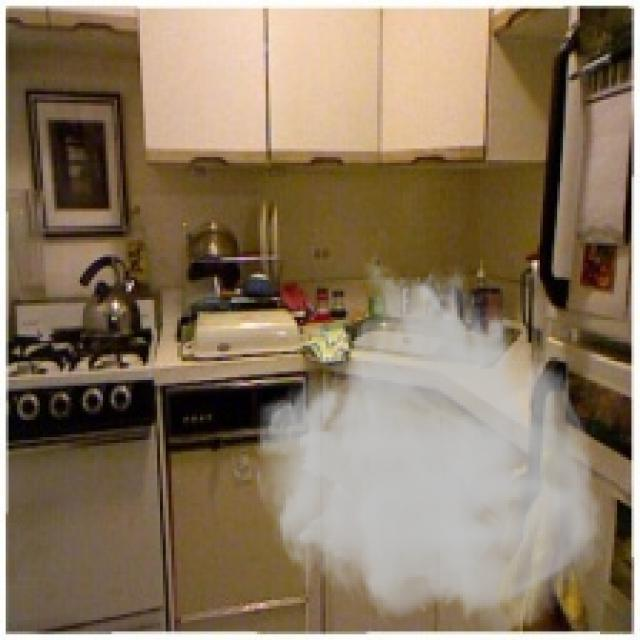Smoke: (252, 254, 608, 637)
